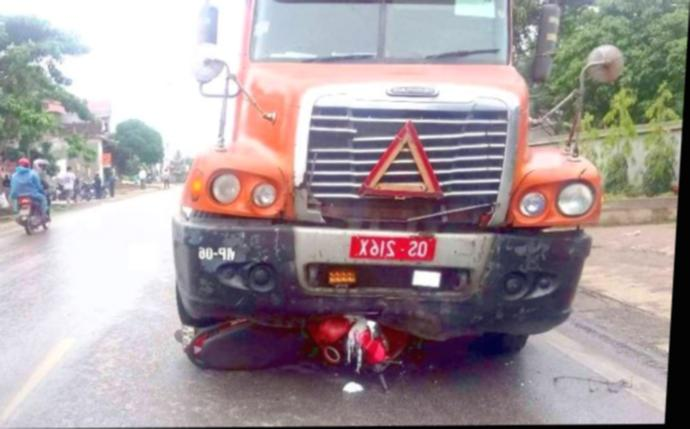License_Plate: (348, 232, 438, 264)
